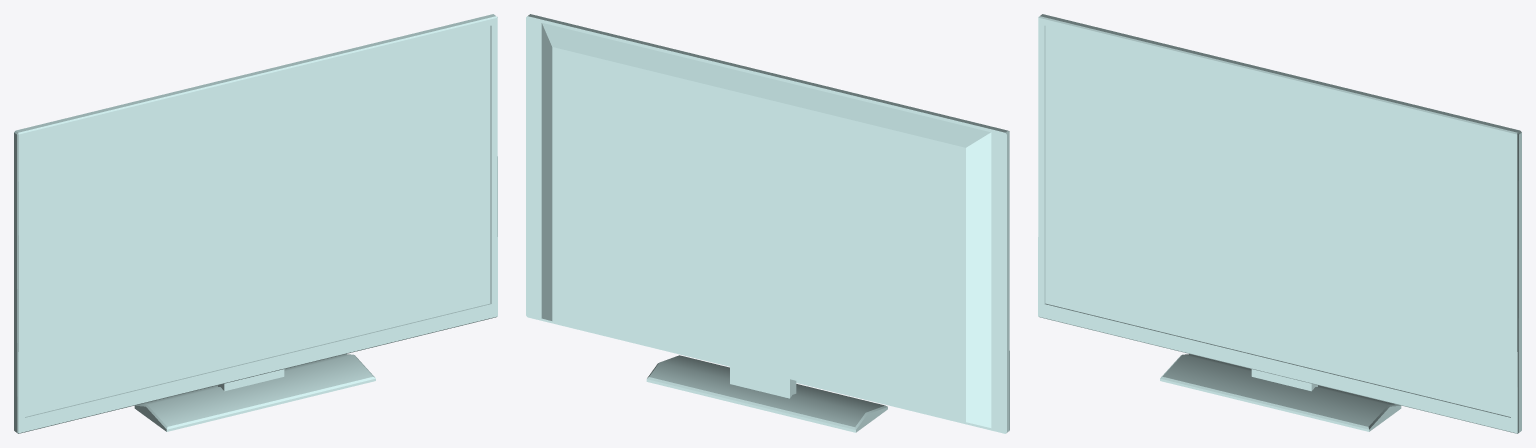
Rendered from RFAIPP_TV.FBX.
3 views of the same model, side by side, from view 1: azimuth 30°, elevation 25°; view 2: azimuth 150°, elevation 25°; view 3: azimuth 330°, elevation 25° (orthographic).
Parts seen in each view (by area): view 1: RFAIPP_TV; view 2: RFAIPP_TV; view 3: RFAIPP_TV.
Boxes of the visible parts, x1,y1,x2,y2 form: RFAIPP_TV: [14, 14, 497, 433]; RFAIPP_TV: [526, 14, 1009, 433]; RFAIPP_TV: [1038, 14, 1521, 433].
Size of the model in its own units: 1.08 by 0.6896 by 0.1254.
